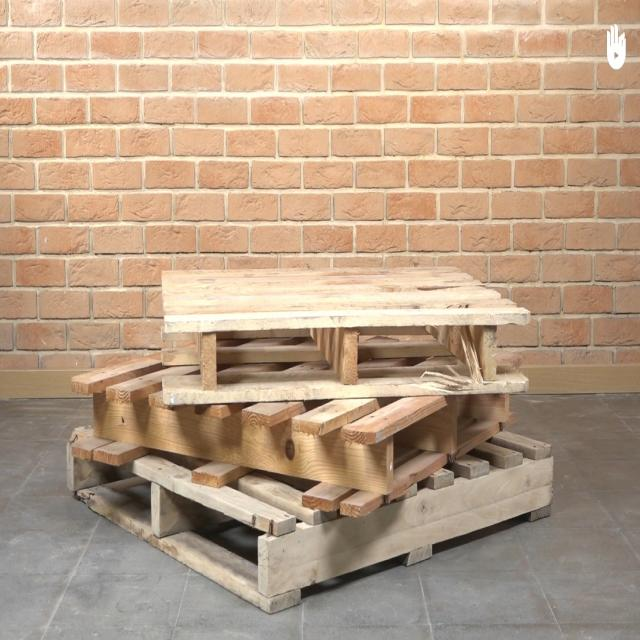Palette: (52, 264, 564, 622)
